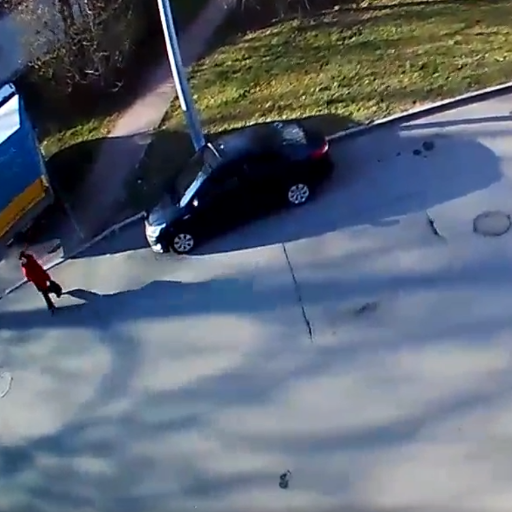Car: (145, 120, 329, 249)
